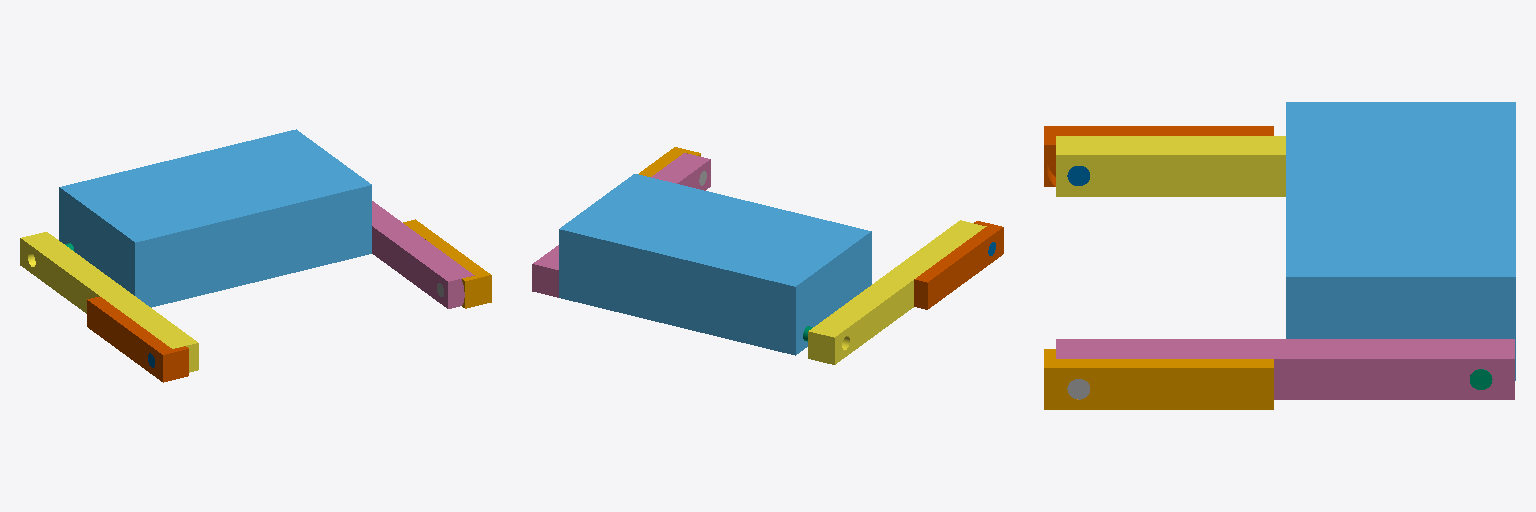
The robot description file, URDF, robot "unnamed":
<robot name="unnamed" version="1.0">
  <joint name="Cuerpo_link_joint" type="fixed">
    <origin rpy="0.00000 0.00000 0.00000" xyz="0.00165 0.05875 0.04640"/>
    <parent link="new_link"/>
    <child link="Cuerpo_link"/>
  </joint>
  <joint name="Transversal_link_joint" type="revolute">
    <limit lower="-3.14000" upper="3.14000" effort="0.00000" velocity="0.00000"/>
    <origin rpy="0.00000 0.00000 0.00000" xyz="-0.00036 0.05446 -0.02518"/>
    <parent link="Cuerpo_link"/>
    <child link="Transversal_link"/>
    <axis xyz="1.00000 0.00000 0.00000"/>
  </joint>
  <joint name="Pata_Alta_D_link_joint" type="fixed">
    <origin rpy="0.00000 0.00000 0.00000" xyz="-0.10800 -0.00205 -0.01680"/>
    <parent link="Transversal_link"/>
    <child link="Pata_Alta_D_link"/>
  </joint>
  <joint name="Nexo_Pata_D_link_joint" type="revolute">
    <limit lower="-3.14000" upper="3.14000" effort="0.00000" velocity="0.00000"/>
    <origin rpy="0.00000 0.00000 0.00000" xyz="-0.00404 -0.17761 0.00407"/>
    <parent link="Pata_Alta_D_link"/>
    <child link="Nexo_Pata_D_link"/>
    <axis xyz="1.00000 0.00000 0.00000"/>
  </joint>
  <joint name="Pata_Baja_D_link_joint" type="fixed">
    <origin rpy="0.00000 0.00000 0.00000" xyz="-0.00954 0.02939 -0.00223"/>
    <parent link="Nexo_Pata_D_link"/>
    <child link="Pata_Baja_D_link"/>
  </joint>
  <joint name="Pata_Alta_I_link_joint" type="fixed">
    <origin rpy="0.00000 0.00000 0.00000" xyz="0.09690 -0.00404 -0.00553"/>
    <parent link="Transversal_link"/>
    <child link="Pata_Alta_I_link"/>
  </joint>
  <joint name="Nexo_Pata_I_link_joint" type="revolute">
    <limit lower="-3.14000" upper="3.14000" effort="0.00000" velocity="0.00000"/>
    <origin rpy="0.00000 0.00000 0.00000" xyz="0.00351 -0.17611 -0.00696"/>
    <parent link="Pata_Alta_I_link"/>
    <child link="Nexo_Pata_I_link"/>
    <axis xyz="1.00000 0.00000 0.00000"/>
  </joint>
  <joint name="Pata_Baja_I_link_joint" type="fixed">
    <origin rpy="0.00000 0.00000 0.00000" xyz="0.01089 0.03634 -0.00185"/>
    <parent link="Nexo_Pata_I_link"/>
    <child link="Pata_Baja_I_link"/>
  </joint>
  <link name="new_link"/>
  <link name="Cuerpo_link">
    <collision name="Cuerpo_collision">
      <origin rpy="0.00000 0.00000 0.00000" xyz="0.11417 -0.14017 -0.04945"/>
      <geometry>
        <mesh filename="../meshes/stl/Cuerpo.stl" scale="0.00100 0.00100 0.00100"/>
      </geometry>
    </collision>
    <inertial>
      <inertia ixx="0.00120" ixy="-0.00000" ixz="0.00000" iyy="0.00155" iyz="0.00025" izz="0.00233"/>
      <origin rpy="0.00000 0.00000 0.00000" xyz="-0.00616 0.01427 -0.02421"/>
      <mass value="0.50000"/>
    </inertial>
    <visual name="Cuerpo">
      <material name="None"/>
      <origin rpy="0.00000 0.00000 0.00000" xyz="0.12384 -0.14017 -0.04945"/>
      <geometry>
        <mesh filename="../meshes/stl/Cuerpo.stl" scale="0.00100 0.00100 0.00100"/>
      </geometry>
    </visual>
  </link>
  <link name="Transversal_link">
    <collision name="Transversal_collision">
      <origin rpy="0.00000 0.00000 0.00000" xyz="0.10420 -0.19464 -0.02427"/>
      <geometry>
        <mesh filename="../meshes/stl/Transversal.stl" scale="0.00100 0.00100 0.00100"/>
      </geometry>
    </collision>
    <inertial>
      <inertia ixx="0.00000" ixy="-0.00000" ixz="-0.00000" iyy="0.00040" iyz="0.00000" izz="0.00040"/>
      <origin rpy="0.00000 0.00000 0.00000" xyz="-0.00547 -0.00464 -0.01427"/>
      <mass value="0.10000"/>
    </inertial>
    <visual name="Transversal">
      <material name="None"/>
      <origin rpy="0.00000 0.00000 0.00000" xyz="0.11453 -0.19464 -0.02427"/>
      <geometry>
        <mesh filename="../meshes/stl/Transversal.stl" scale="0.00100 0.00100 0.00100"/>
      </geometry>
    </visual>
  </link>
  <link name="Pata_Alta_D_link">
    <collision name="Pata_Alta_D_collision">
      <origin rpy="0.00000 0.00000 0.00000" xyz="0.22254 -0.19259 -0.00748"/>
      <geometry>
        <mesh filename="../meshes/stl/Pata_Alta_D.stl" scale="0.00100 0.00100 0.00100"/>
      </geometry>
    </collision>
    <inertial>
      <inertia ixx="0.00073" ixy="0.00000" ixz="-0.00000" iyy="0.00001" iyz="-0.00000" izz="0.00073"/>
      <origin rpy="0.00000 0.00000 0.00000" xyz="-0.00746 -0.08749 0.00252"/>
      <mass value="0.20000"/>
    </inertial>
    <visual name="Pata_Alta_D">
      <material name="None"/>
      <origin rpy="0.00000 0.00000 0.00000" xyz="0.22254 -0.19259 -0.00748"/>
      <geometry>
        <mesh filename="../meshes/stl/Pata_Alta_D.stl" scale="0.00100 0.00100 0.00100"/>
      </geometry>
    </visual>
  </link>
  <link name="Nexo_Pata_D_link">
    <collision name="Nexo_Pata_D_collision">
      <origin rpy="0.00000 0.00000 0.00000" xyz="0.22658 -0.01498 -0.01155"/>
      <geometry>
        <mesh filename="../meshes/stl/Nexo_Pata_D.stl" scale="0.00100 0.00100 0.00100"/>
      </geometry>
    </collision>
    <inertial>
      <inertia ixx="0.00000" ixy="-0.00000" ixz="-0.00000" iyy="0.00000" iyz="-0.00000" izz="0.00000"/>
      <origin rpy="0.00000 0.00000 0.00000" xyz="-0.00842 0.00002 -0.00155"/>
      <mass value="0.02000"/>
    </inertial>
    <visual name="Nexo_Pata_D">
      <material name="None"/>
      <origin rpy="0.00000 0.00000 0.00000" xyz="0.22658 -0.01498 -0.01155"/>
      <geometry>
        <mesh filename="../meshes/stl/Nexo_Pata_D.stl" scale="0.00100 0.00100 0.00100"/>
      </geometry>
    </visual>
  </link>
  <link name="Pata_Baja_D_link">
    <collision name="Pata_Baja_D_collision">
      <origin rpy="0.00000 0.00000 0.00000" xyz="0.23611 -0.04437 -0.00931"/>
      <geometry>
        <mesh filename="../meshes/stl/Pata_Baja_D.stl" scale="0.00100 0.00100 0.00100"/>
      </geometry>
    </collision>
    <inertial>
      <inertia ixx="0.00019" ixy="0.00001" ixz="-0.00000" iyy="0.00001" iyz="0.00000" izz="0.00018"/>
      <origin rpy="0.00000 0.00000 0.00000" xyz="-0.00867 0.00599 0.00069"/>
      <mass value="0.10000"/>
    </inertial>
    <visual name="Pata_Baja_D">
      <material name="None"/>
      <origin rpy="0.00000 0.00000 0.00000" xyz="0.23611 -0.04437 -0.00931"/>
      <geometry>
        <mesh filename="../meshes/stl/Pata_Baja_D.stl" scale="0.00100 0.00100 0.00100"/>
      </geometry>
    </visual>
  </link>
  <link name="Pata_Alta_I_link">
    <inertial>
      <inertia ixx="0.00073" ixy="0.00000" ixz="-0.00000" iyy="0.00001" iyz="-0.00000" izz="0.00073"/>
      <origin rpy="0.00000 0.00000 0.00000" xyz="-0.00270 -0.08550 -0.00874"/>
      <mass value="0.20000"/>
    </inertial>
    <visual name="Pata_Alta_I">
      <material name="None"/>
      <origin rpy="0.00000 0.00000 0.00000" xyz="0.02730 -0.19060 -0.01874"/>
      <geometry>
        <mesh filename="../meshes/stl/Pata_Alta_I.stl" scale="0.00100 0.00100 0.00100"/>
      </geometry>
    </visual>
  </link>
  <link name="Nexo_Pata_I_link">
    <collision name="Nexo_Pata_I_collision">
      <origin rpy="0.00000 0.00000 0.00000" xyz="0.02379 -0.01449 -0.01178"/>
      <geometry>
        <mesh filename="../meshes/stl/Nexo_Pata_I.stl" scale="0.00100 0.00100 0.00100"/>
      </geometry>
    </collision>
    <inertial>
      <inertia ixx="0.00000" ixy="0.00000" ixz="-0.00000" iyy="0.00000" iyz="0.00000" izz="0.00000"/>
      <origin rpy="0.00000 0.00000 0.00000" xyz="-0.00121 0.00051 -0.00178"/>
      <mass value="0.02000"/>
    </inertial>
    <visual name="Nexo_Pata_I">
      <material name="None"/>
      <origin rpy="0.00000 0.00000 0.00000" xyz="0.02379 -0.01449 -0.01178"/>
      <geometry>
        <mesh filename="../meshes/stl/Nexo_Pata_I.stl" scale="0.00100 0.00100 0.00100"/>
      </geometry>
    </visual>
  </link>
  <link name="Pata_Baja_I_link">
    <collision name="Pata_Baja_I_collision">
      <origin rpy="0.00000 0.00000 0.00000" xyz="0.01290 -0.05083 -0.00992"/>
      <geometry>
        <mesh filename="../meshes/stl/Pata_Baja_I.stl" scale="0.00100 0.00100 0.00100"/>
      </geometry>
    </collision>
    <inertial>
      <inertia ixx="0.00019" ixy="-0.00001" ixz="0.00000" iyy="0.00001" iyz="0.00000" izz="0.00018"/>
      <origin rpy="0.00000 0.00000 0.00000" xyz="-0.00231 -0.00047 0.00008"/>
      <mass value="0.10000"/>
    </inertial>
    <visual name="Pata_Baja_I">
      <material name="None"/>
      <origin rpy="0.00000 0.00000 0.00000" xyz="0.01290 -0.05083 -0.00992"/>
      <geometry>
        <mesh filename="../meshes/stl/Pata_Baja_I.stl" scale="0.00100 0.00100 0.00100"/>
      </geometry>
    </visual>
  </link>
</robot>

--- Facts derived from the render (not from the file) ---
Views: 3 orthographic renders of the robot side by side, from view 1: azimuth 30°, elevation 25°; view 2: azimuth 150°, elevation 25°; view 3: azimuth 270°, elevation 25°.
Model unnamed with 9 links and 8 joints (3 revolute, 5 fixed), rooted at new_link, posed every joint at zero.
Links seen in each view (by area): view 1: Cuerpo_link, Pata_Alta_D_link, Pata_Alta_I_link, Pata_Baja_D_link, Pata_Baja_I_link; view 2: Cuerpo_link, Pata_Alta_D_link, Pata_Baja_D_link, Pata_Alta_I_link, Pata_Baja_I_link; view 3: Cuerpo_link, Pata_Alta_I_link, Pata_Alta_D_link, Pata_Baja_I_link, Pata_Baja_D_link.
Boxes of the visible links, <box> form: Cuerpo_link: <box>59,129,371,307</box>; Pata_Alta_D_link: <box>20,232,198,372</box>; Pata_Alta_I_link: <box>372,201,474,308</box>; Pata_Baja_D_link: <box>87,297,188,382</box>; Pata_Baja_I_link: <box>403,219,491,308</box>; Cuerpo_link: <box>559,174,871,355</box>; Pata_Alta_D_link: <box>808,220,986,364</box>; Pata_Baja_D_link: <box>914,221,1003,309</box>; Pata_Alta_I_link: <box>532,153,710,297</box>; Pata_Baja_I_link: <box>639,147,700,176</box>; Cuerpo_link: <box>1286,102,1515,380</box>; Pata_Alta_I_link: <box>1056,339,1514,399</box>; Pata_Alta_D_link: <box>1056,136,1285,196</box>; Pata_Baja_I_link: <box>1044,349,1273,409</box>; Pata_Baja_D_link: <box>1044,126,1273,186</box>.
Bounding box of the posed robot: 0.2497 × 0.205 × 0.05 m (x, y, z).
8 mesh visuals loaded from 8 distinct referenced files (8 binary STL).
